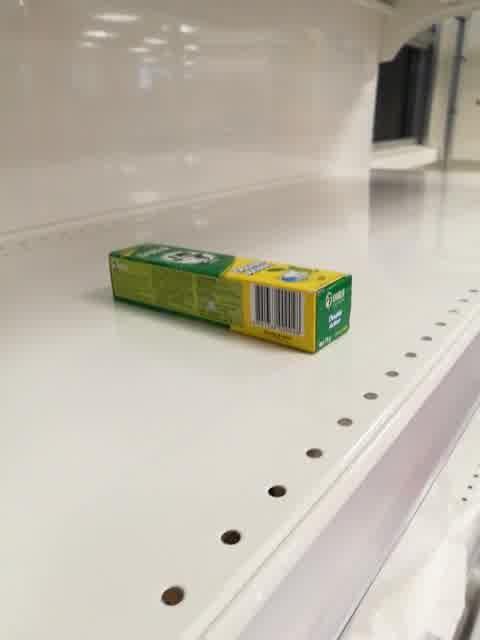toothpaste: (109, 244, 352, 356)
